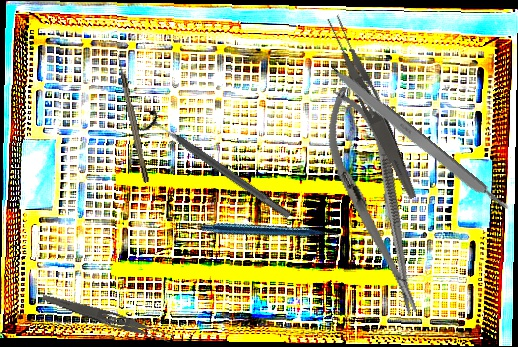Dressing Forceps: (322, 12, 426, 202), (39, 291, 175, 346)
Fixation Ring: (137, 107, 297, 228)
Handpiece: (199, 164, 344, 303)
Hook Surgical: (115, 53, 150, 184)
Needle Holder: (310, 79, 440, 323)
Scalpel Handle: (325, 62, 513, 219)
